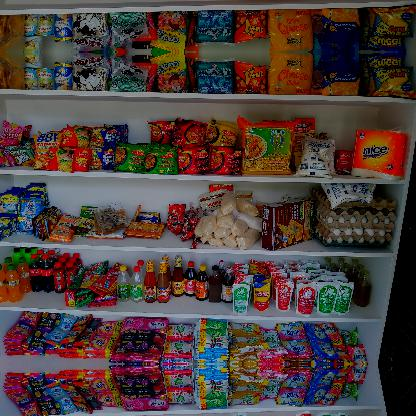Koko-Krunch: (260, 196, 318, 252)
